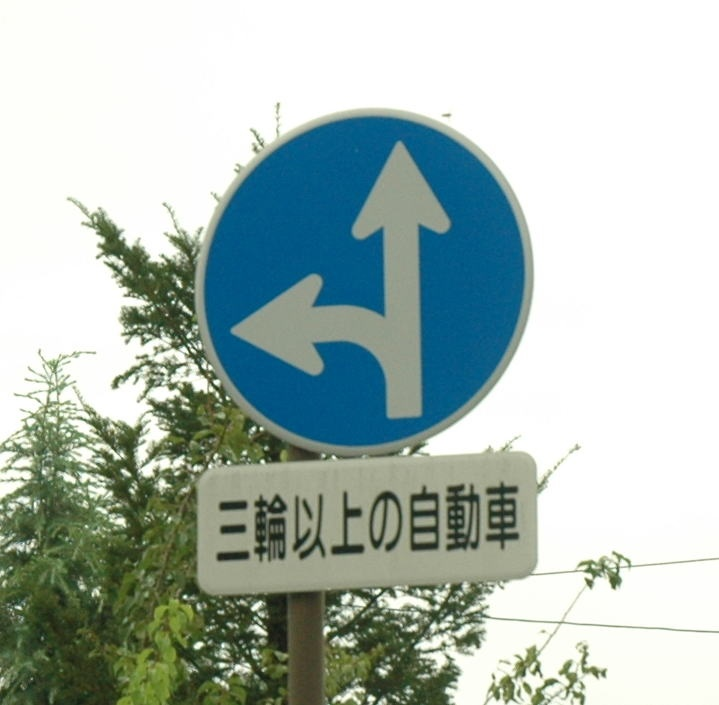Direction_sign: (145, 85, 539, 463)
